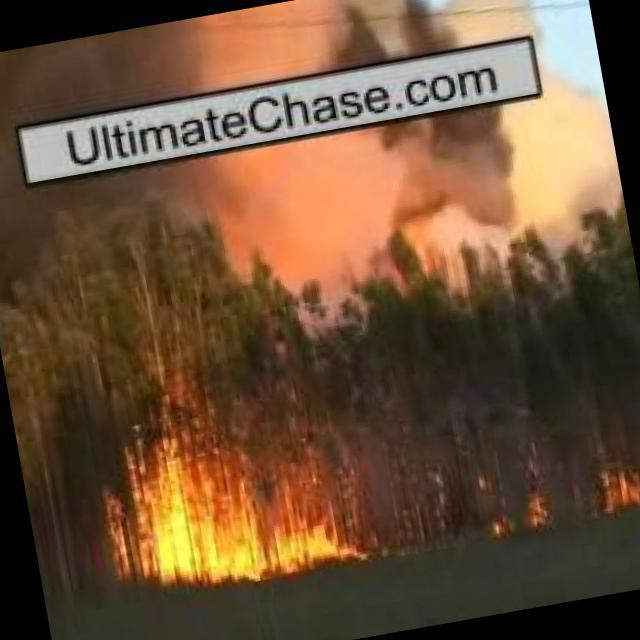Fire: (131, 438, 354, 592), (484, 495, 552, 538), (600, 467, 640, 508)
